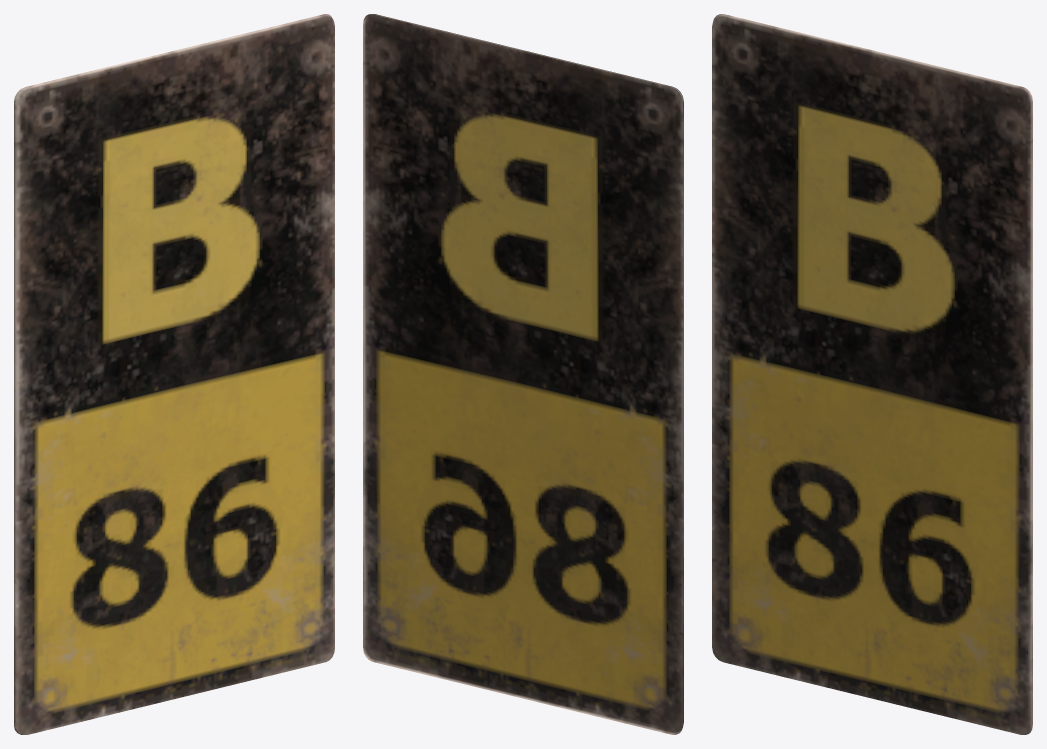
Rendered from SM_Sign_01c.glb.
3 views of the same model, side by side, from view 1: azimuth 30°, elevation 25°; view 2: azimuth 150°, elevation 25°; view 3: azimuth 330°, elevation 25° (orthographic).
Parts seen in each view (by area): view 1: SM_Sign_01c; view 2: SM_Sign_01c; view 3: SM_Sign_01c.
Boxes of the visible parts, bbox=[...] form: SM_Sign_01c: bbox=[14, 14, 334, 734]; SM_Sign_01c: bbox=[363, 14, 683, 734]; SM_Sign_01c: bbox=[712, 14, 1032, 734].
Size of the model in its own units: 0.1994 by 0.3859 by 0.00222.
1 material, 1 textured.
